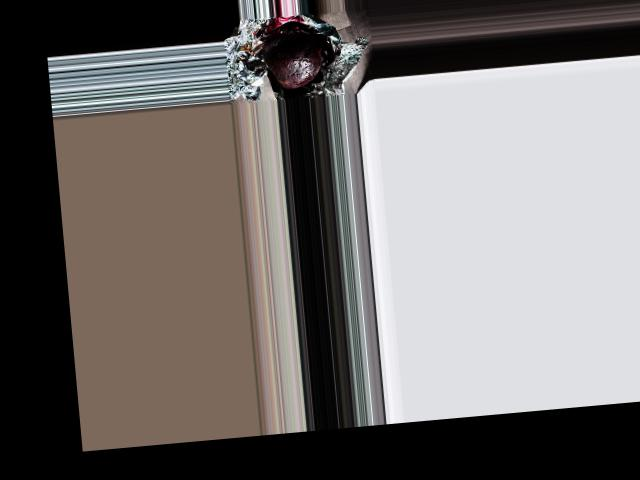beet: (260, 30, 325, 91)
